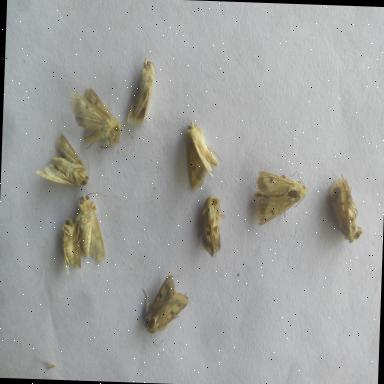abw: (247, 160, 315, 235), (131, 270, 193, 350), (63, 82, 126, 154), (59, 187, 111, 270), (31, 128, 95, 192), (179, 118, 226, 194), (322, 169, 368, 246), (122, 52, 160, 132), (193, 184, 228, 262), (54, 208, 86, 280)
